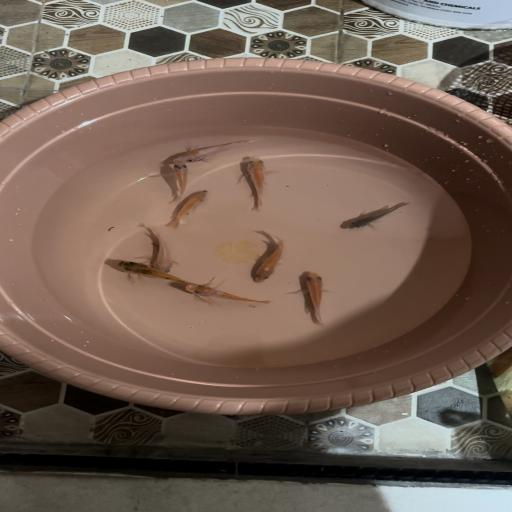nila: (332, 189, 412, 237), (284, 270, 347, 329), (105, 256, 226, 286), (226, 156, 286, 216), (240, 232, 296, 285), (165, 135, 259, 165), (136, 224, 186, 276), (176, 282, 280, 306), (169, 187, 218, 230), (160, 162, 201, 200)
